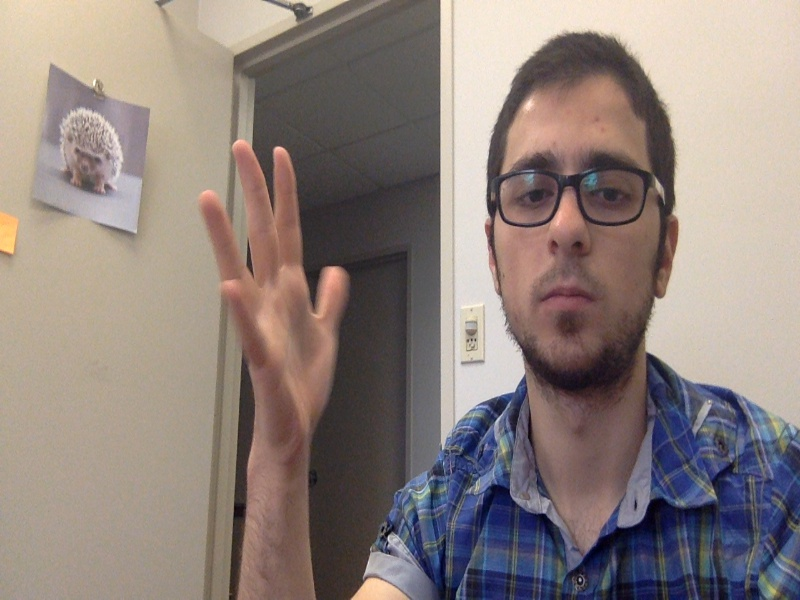5-hand: (197, 134, 350, 450)
